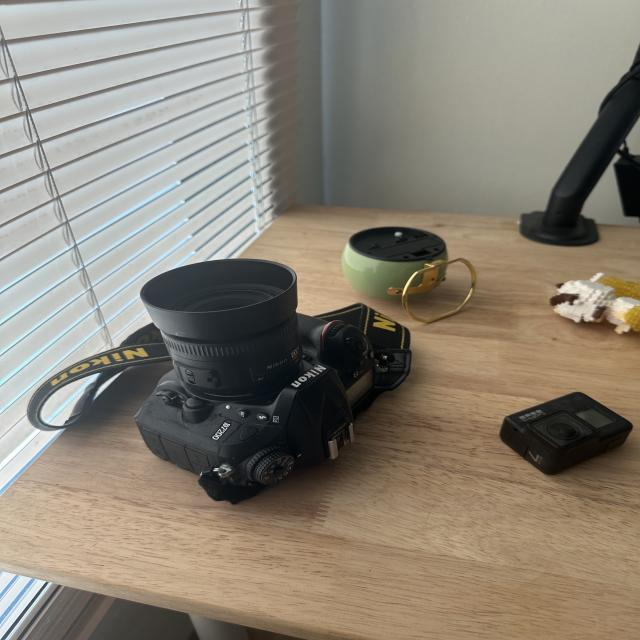actioncam: (470, 360, 640, 486)
camera: (30, 240, 419, 523)
clock: (300, 192, 503, 335)
toy: (524, 250, 640, 353)
